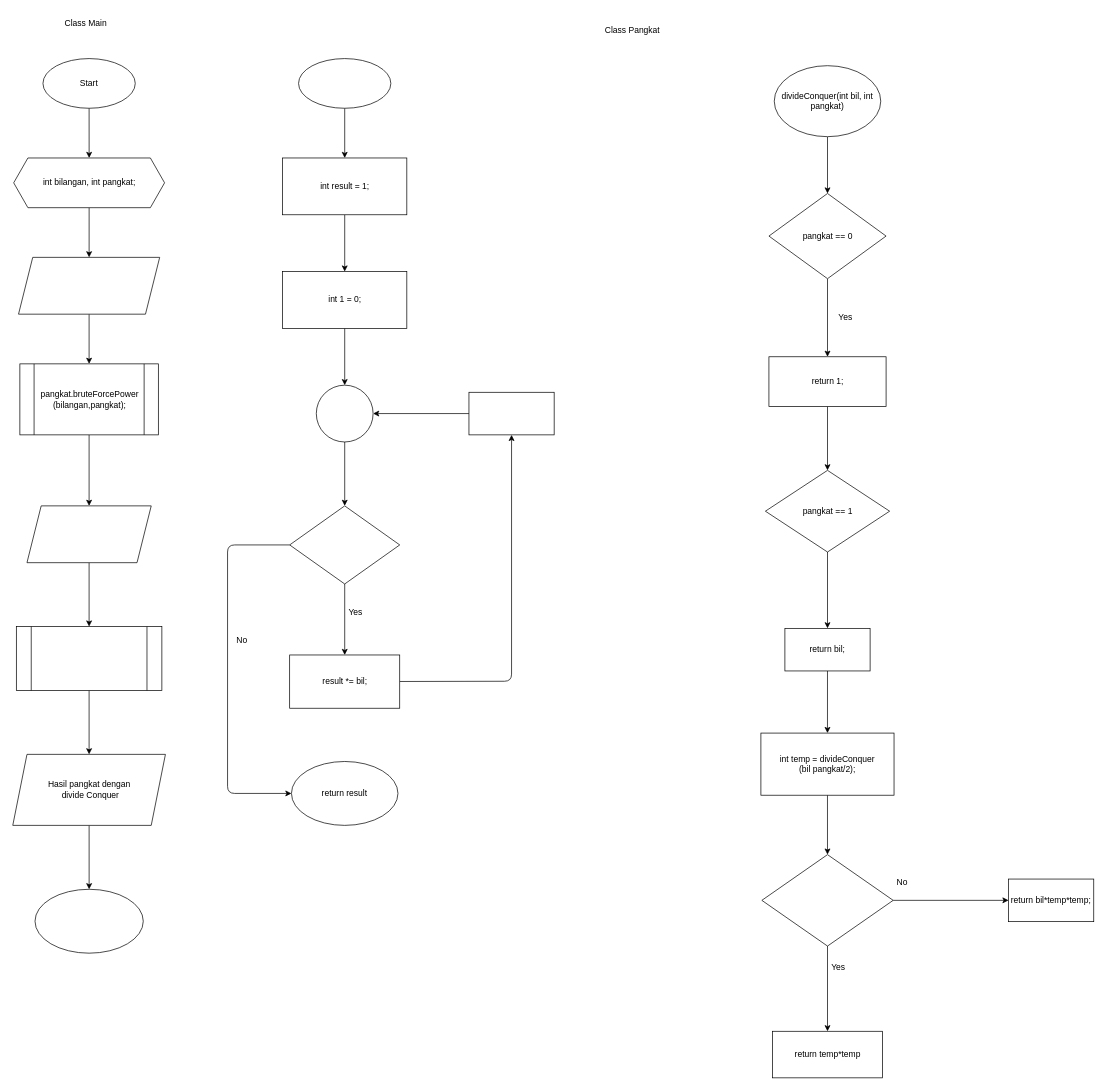
Image size: 1106x1091. Some labels were removed from this diagram. Here are the shapes that lost their labels. From the top down, the centre of each, then its label:
At pixel 344 83: "bruteForce (int bil, int pangkat)".
At pixel 89 285: "input bilangn dan input pangkat".
At pixel 511 413: "i++".
At pixel 88 534: "Hasil pangkat dengan brute force".
At pixel 344 544: "i < pangkat".
At pixel 89 658: "pangkat divideConquer (bilangan, pangkat);".
At pixel 827 900: "pangkat % 2 == 0".
At pixel 88 921: "end".
